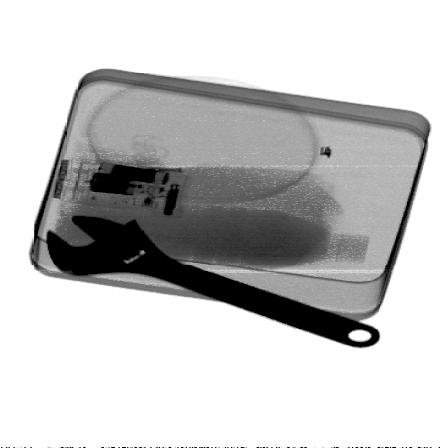Wrench: (43, 215, 382, 350)
